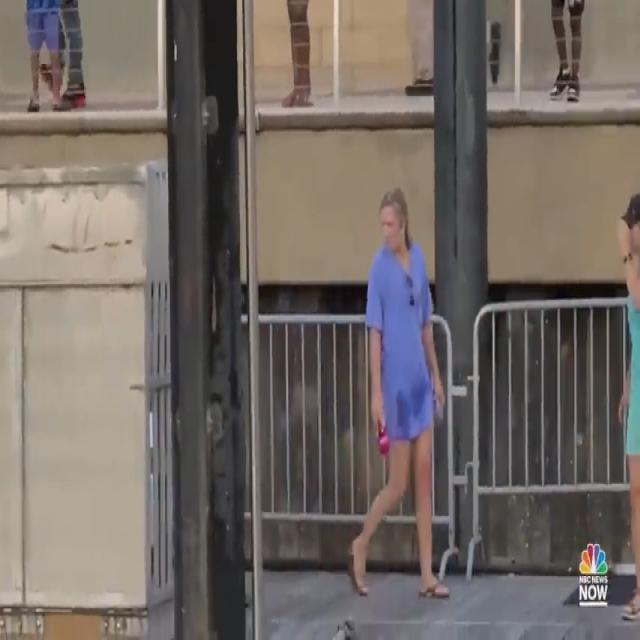non-fight: (326, 163, 468, 616)
